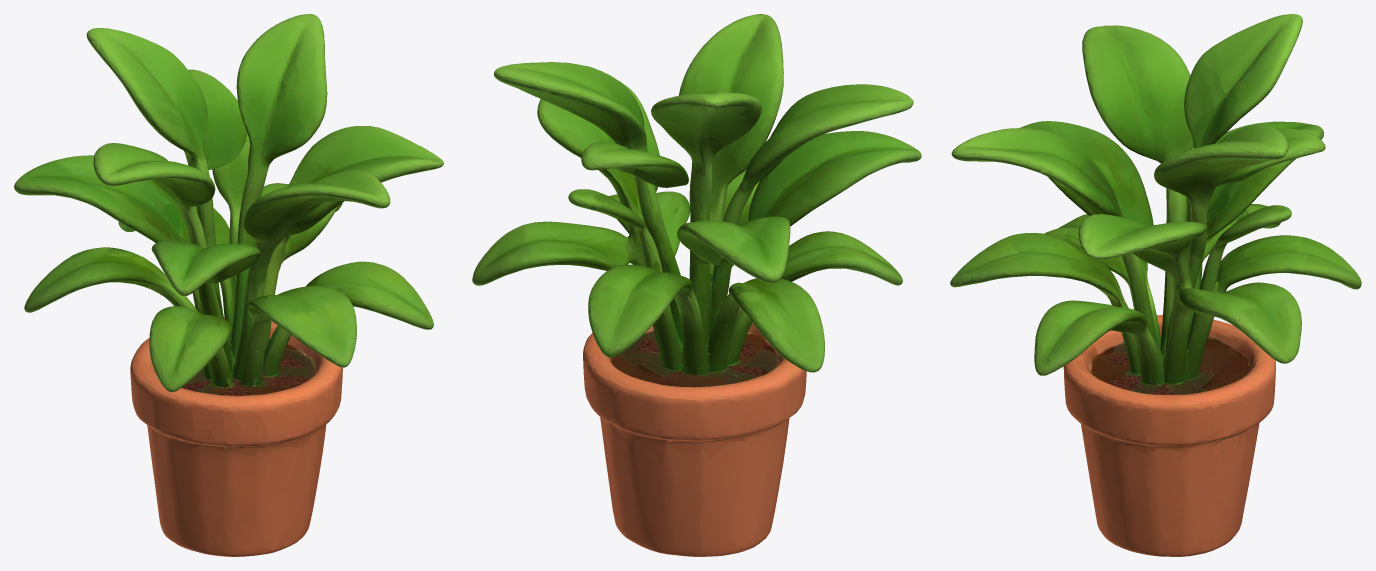
Rendered from plant.glb.
The picture shows the model from 3 angles, left to right: view 1: azimuth 30°, elevation 25°; view 2: azimuth 150°, elevation 25°; view 3: azimuth 270°, elevation 25°; orthographic projection. The views are drawn at different scales.
Bounding box in the file's own units: 1.43 × 1.9 × 1.5.
Materials: 1 (1 with a texture image).
